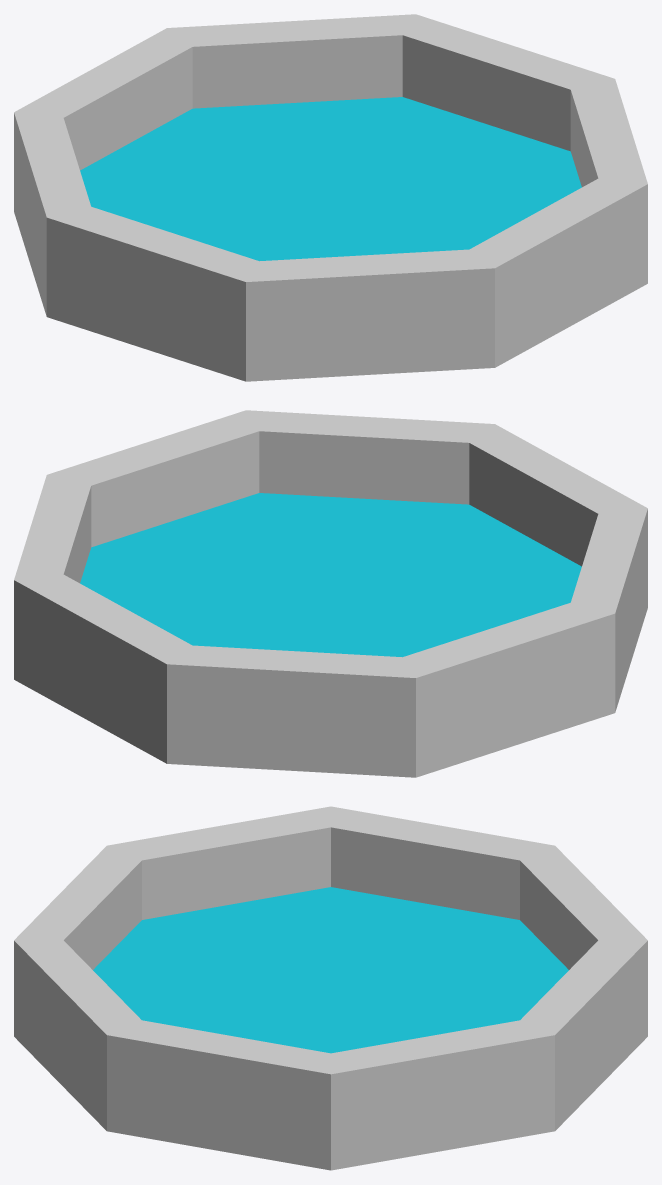
The model's file is hole.fbx.
3 views of the same model, one above another, from view 1: azimuth 30°, elevation 25°; view 2: azimuth 150°, elevation 25°; view 3: azimuth 270°, elevation 25° (orthographic). The views are drawn at different scales.
Parts seen in each view (by area): view 1: Circle.001; view 2: Circle.001; view 3: Circle.001.
Part boxes in pixels (x1=…): Circle.001: x1=14, y1=14, x2=647, y2=381; Circle.001: x1=14, y1=410, x2=647, y2=777; Circle.001: x1=14, y1=806, x2=647, y2=1170.
Size of the model in its own units: 444 by 74.3 by 444.
